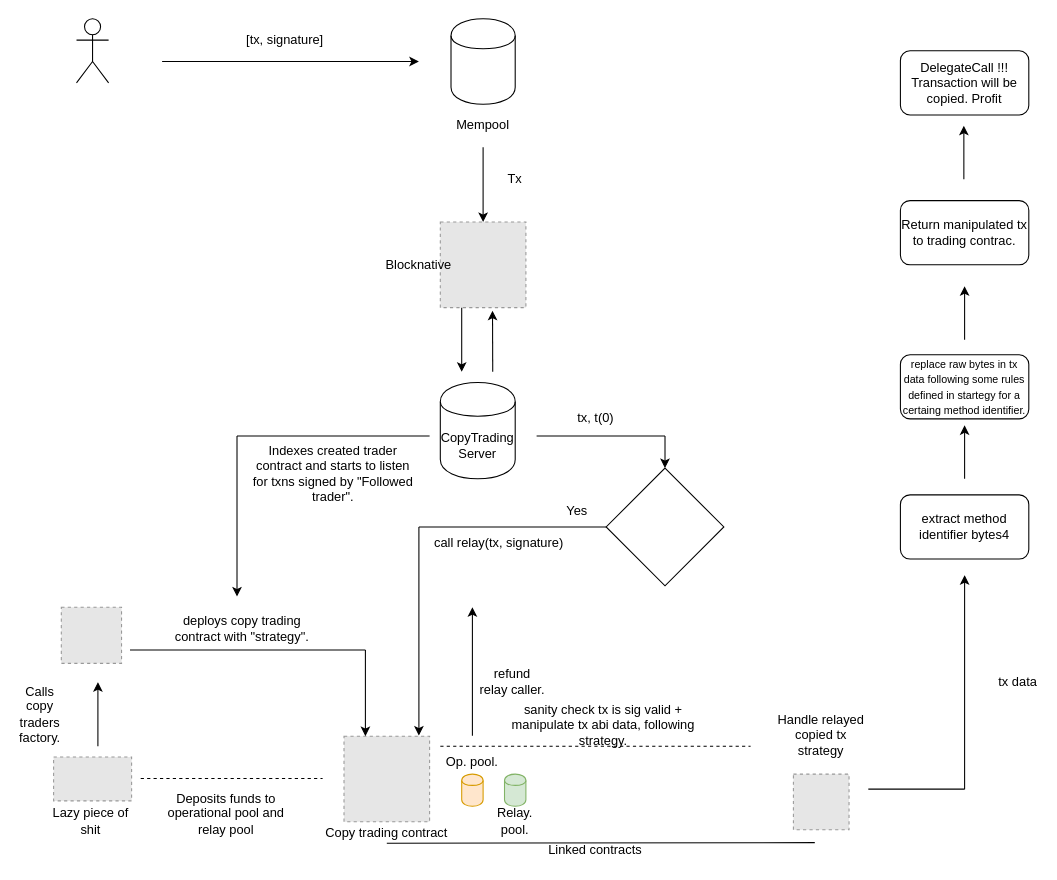
Image size: 1057x880. Some labels were removed from this diagram. Grey dashed boxes stand in for pictures. Each missing label, with the centre of its shape:
"Followed address" goes at point (92, 50).
"tx included in block and t < x seconds" goes at point (664, 526).
